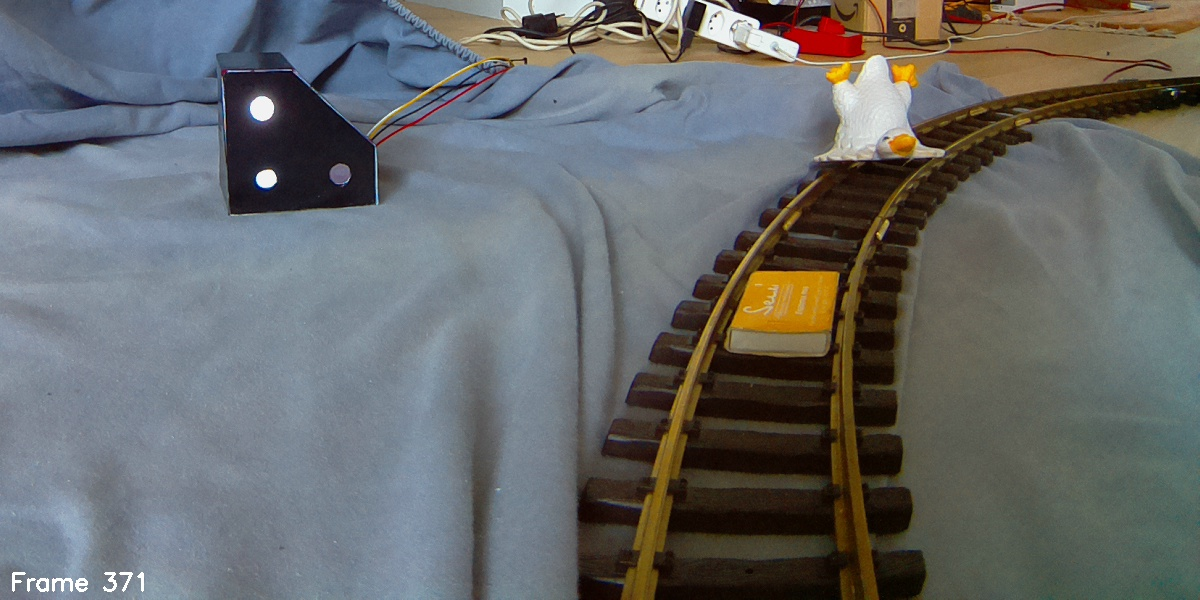Ente: (814, 52, 951, 169)
Fahrt: (218, 51, 376, 219)
